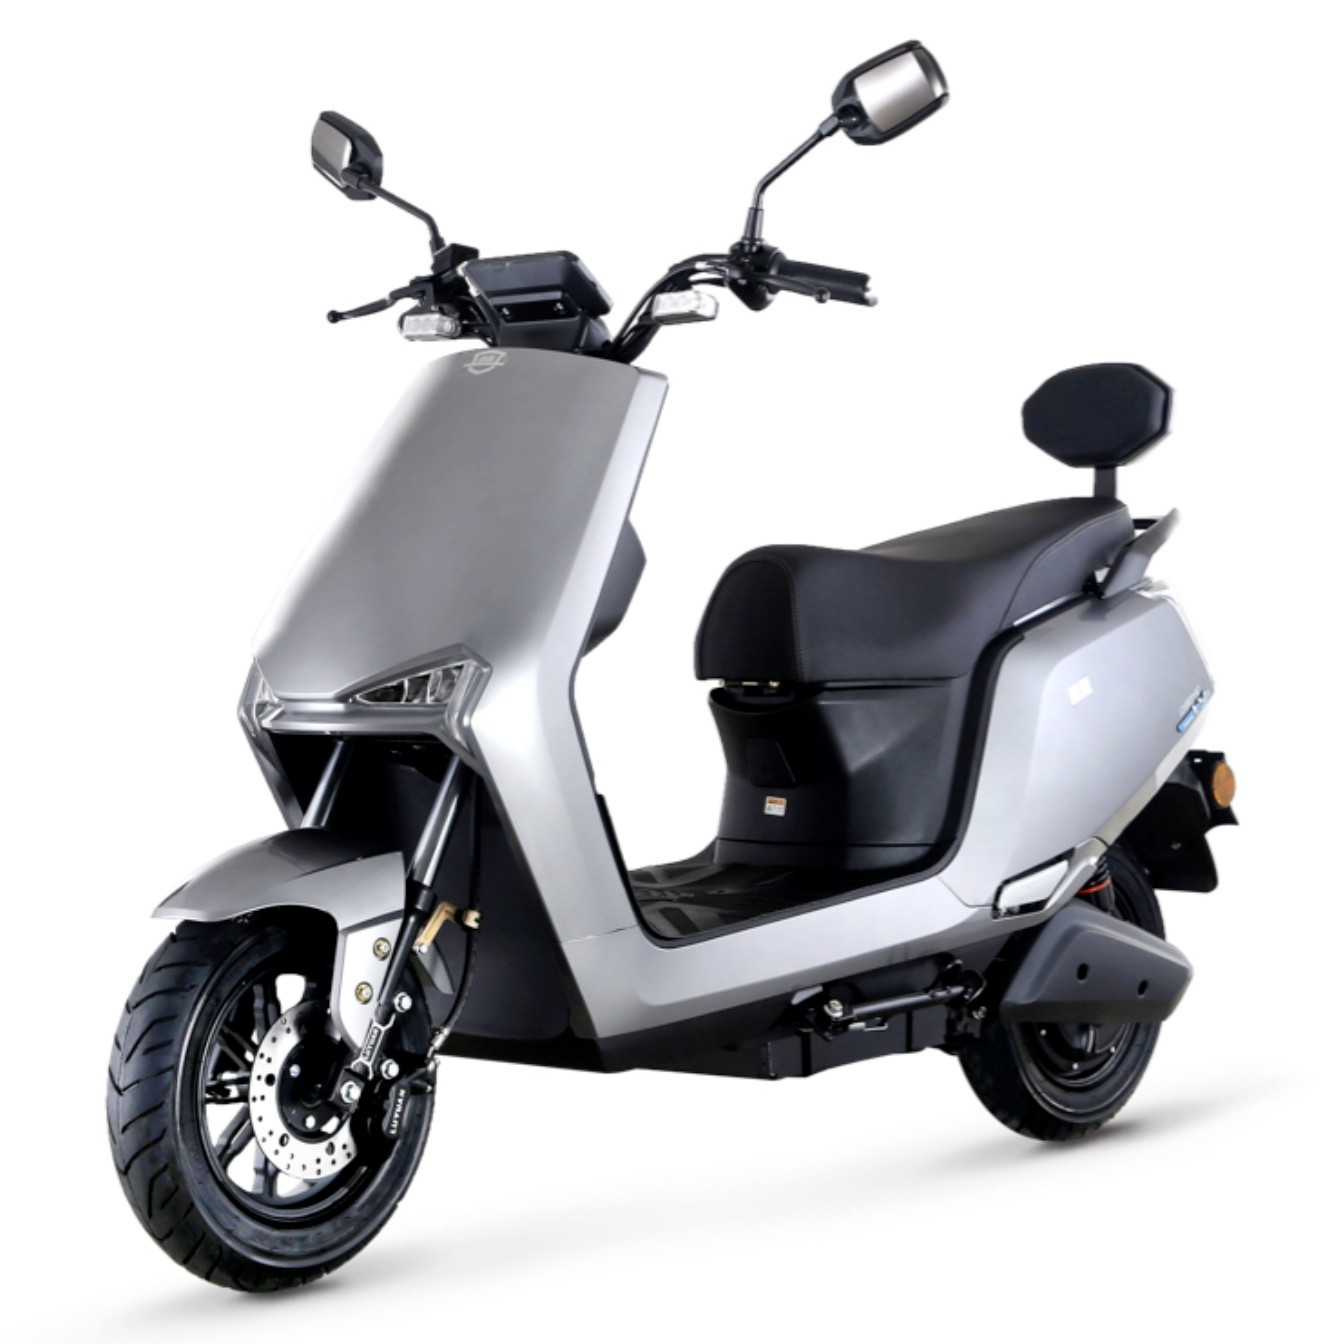MNV: (103, 113, 1236, 1297)
